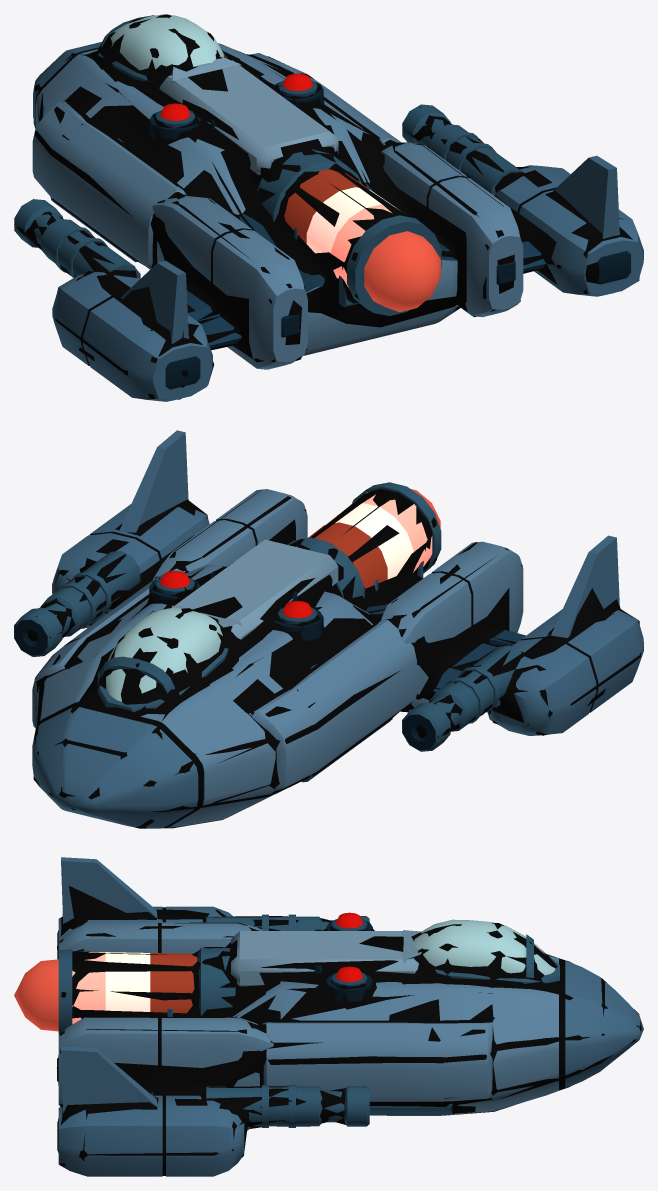
Rendered from side-ship.glb.
3 views of the same model, one above another, from view 1: azimuth 30°, elevation 25°; view 2: azimuth 150°, elevation 25°; view 3: azimuth 270°, elevation 25° (orthographic). The views are drawn at different scales.
Parts seen in each view (by area): view 1: side-ship, side-ship_outline, side-ship-flame, side-ship-lamps; view 2: side-ship, side-ship_outline, side-ship-lamps; view 3: side-ship, side-ship_outline, side-ship-flame, side-ship-lamps.
Boxes of the visible parts, box(x1,y1,x2,y2) form: side-ship: box(14, 14, 643, 401); side-ship_outline: box(16, 14, 639, 399); side-ship-flame: box(364, 231, 440, 312); side-ship-lamps: box(160, 73, 312, 120); side-ship: box(14, 430, 643, 828); side-ship_outline: box(15, 489, 640, 828); side-ship-lamps: box(160, 571, 312, 618); side-ship: box(57, 857, 643, 1176); side-ship_outline: box(56, 886, 641, 1175); side-ship-flame: box(14, 959, 58, 1031); side-ship-lamps: box(336, 912, 362, 982).
Size of the model in its own units: 0.9985 by 0.3283 by 1.17.
18 materials, 12 textured.
